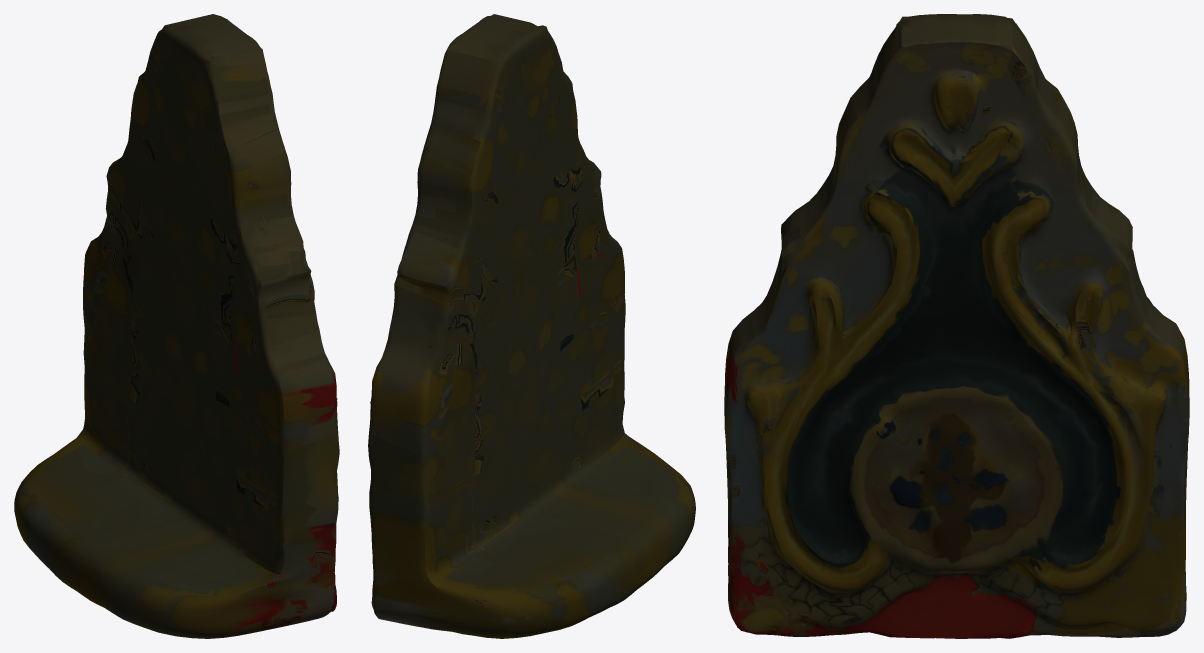
The model's file is 13.tile.fbx.
3 renders of one model, left to right at view 1: azimuth 30°, elevation 25°; view 2: azimuth 150°, elevation 25°; view 3: azimuth 270°, elevation 25°, orthographic. The views are drawn at different scales.
Visible parts, largest first — view 1: Remesh_2; view 2: Remesh_2; view 3: Remesh_2.
Part boxes in pixels (x1,y1,x2,y2): Remesh_2: (14,14,339,638); Remesh_2: (368,14,695,638); Remesh_2: (724,14,1189,638).
Bounding box in the file's own units: 4.99 × 13.94 × 9.79.
1 material, 1 textured.
